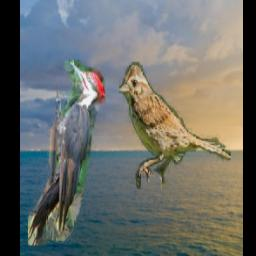Sparrow: (119, 63, 231, 190)
Woodpecker: (29, 60, 106, 245)
